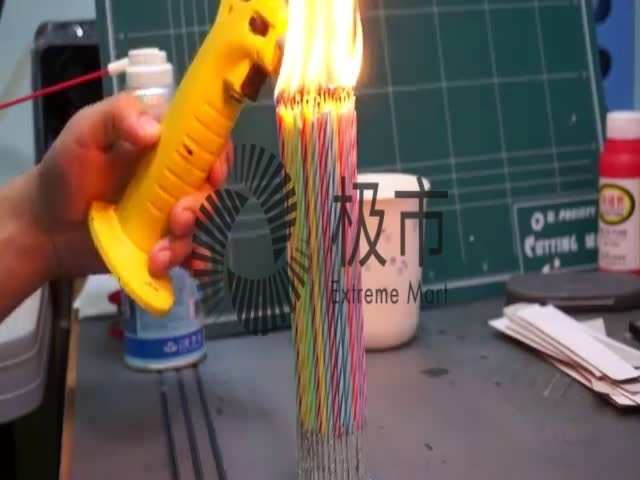fire: (268, 1, 364, 109)
